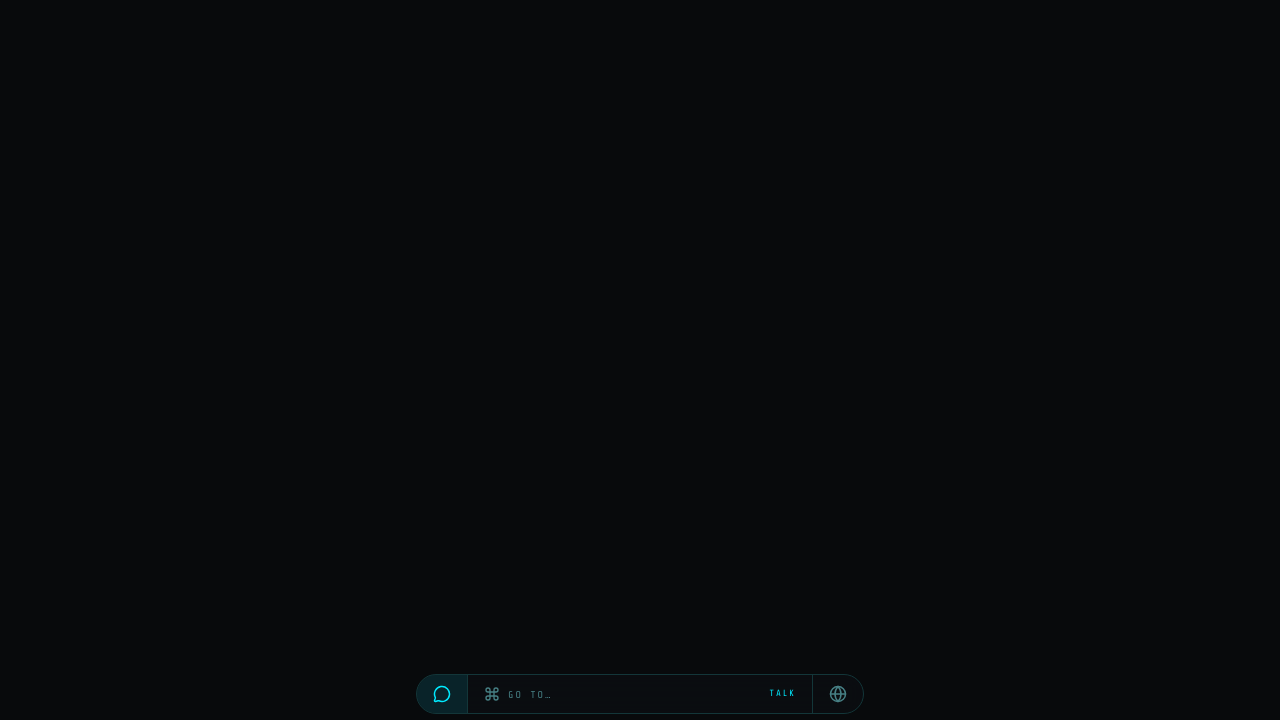
Test: Command › opens the palette from the bar, filters, and navigates with Enter
This screenshot has width=1280, height=720.
Click the button with test id "command-open" at (530, 694), box [467, 675, 813, 713]
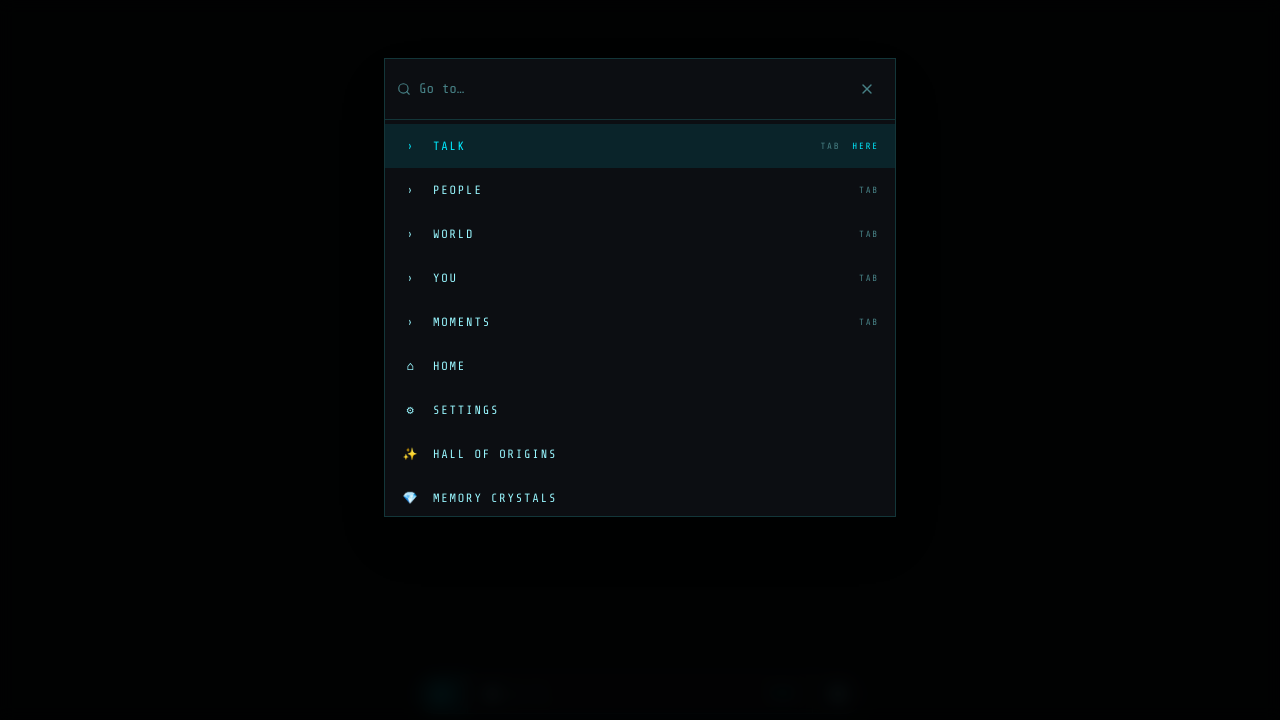
Type "sett" into the dropdown with test id "command-input" at (631, 89), box [419, 67, 843, 111]
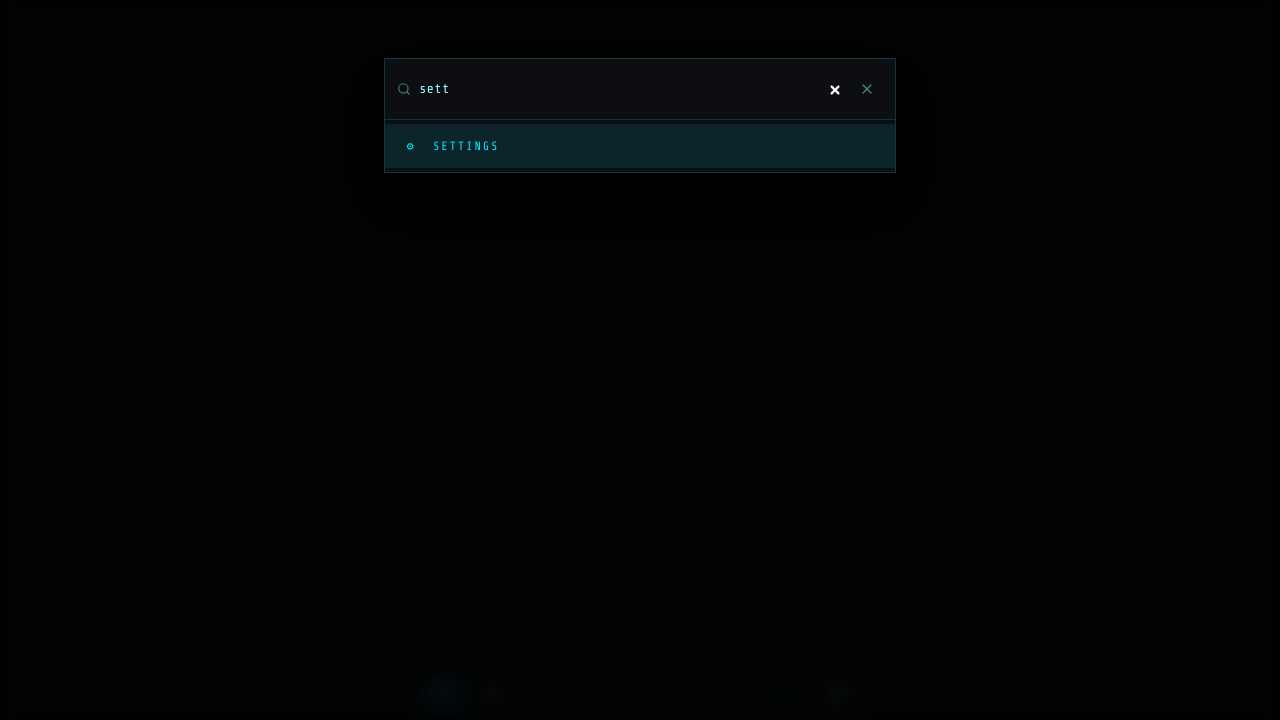
Press Enter in the dropdown with test id "command-input", box [419, 67, 843, 111]
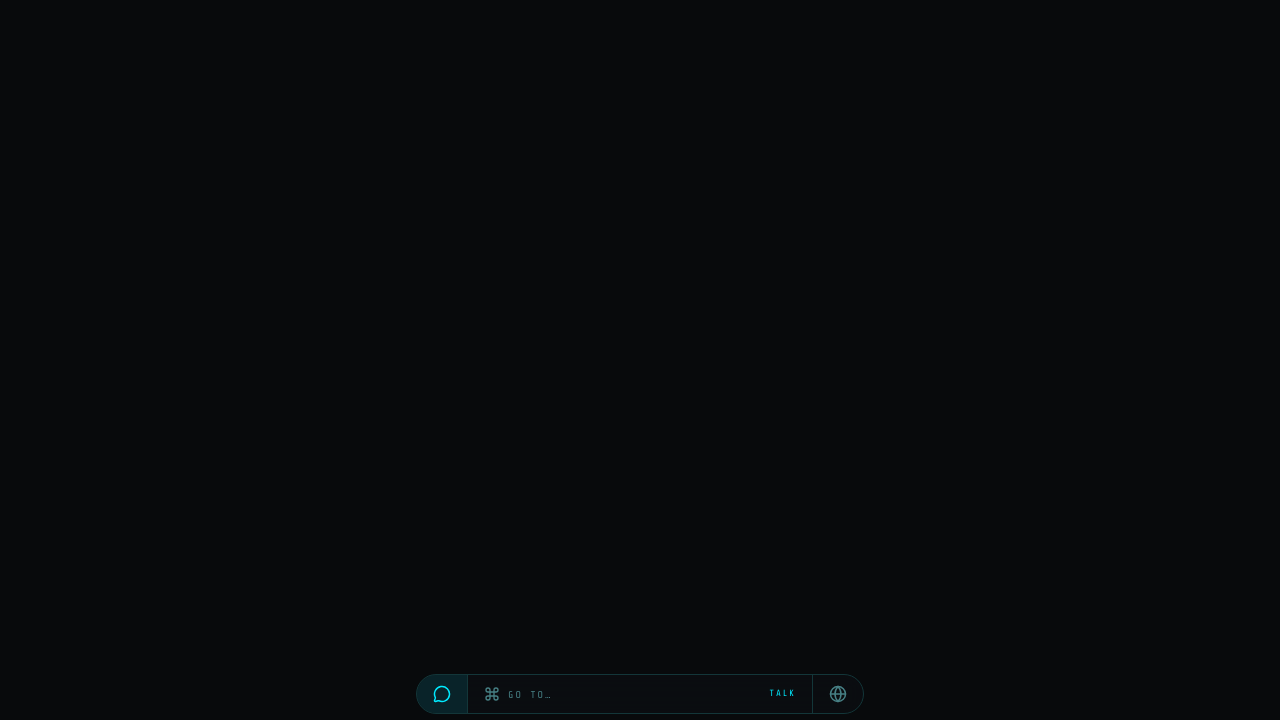
Now the dialog with test id "command-palette" is gone
